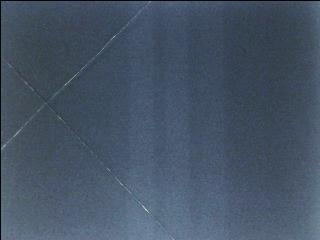crack: (0, 58, 177, 239), (0, 1, 154, 147)
